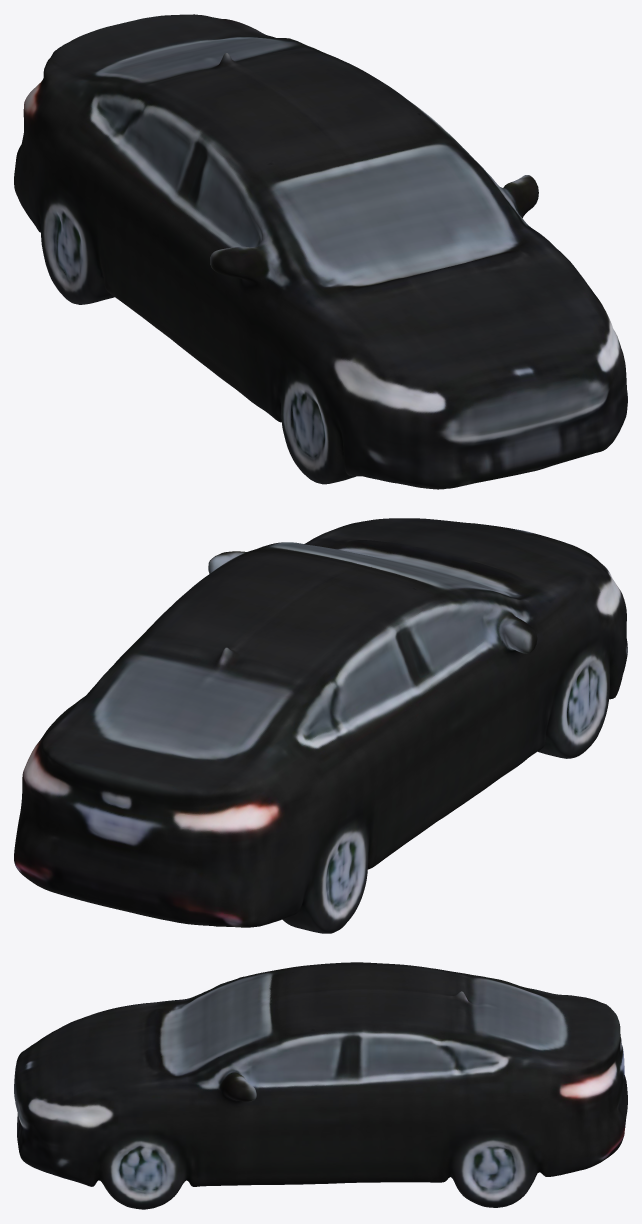
Rendered from rochelle_ford_fusion.glb.
The picture shows the model from 3 angles, top to bottom: view 1: azimuth 30°, elevation 25°; view 2: azimuth 150°, elevation 25°; view 3: azimuth 270°, elevation 25°; orthographic projection. The views are drawn at different scales.
Visible parts, largest first — view 1: world; view 2: world; view 3: world.
Part boxes in pixels (<box>): world: <box>14,14,627,489</box>; world: <box>14,518,627,933</box>; world: <box>14,962,627,1209</box>.
Size of the model in its own units: 0.2603 by 0.1831 by 0.5927.
Materials: 1 (1 with a texture image).
